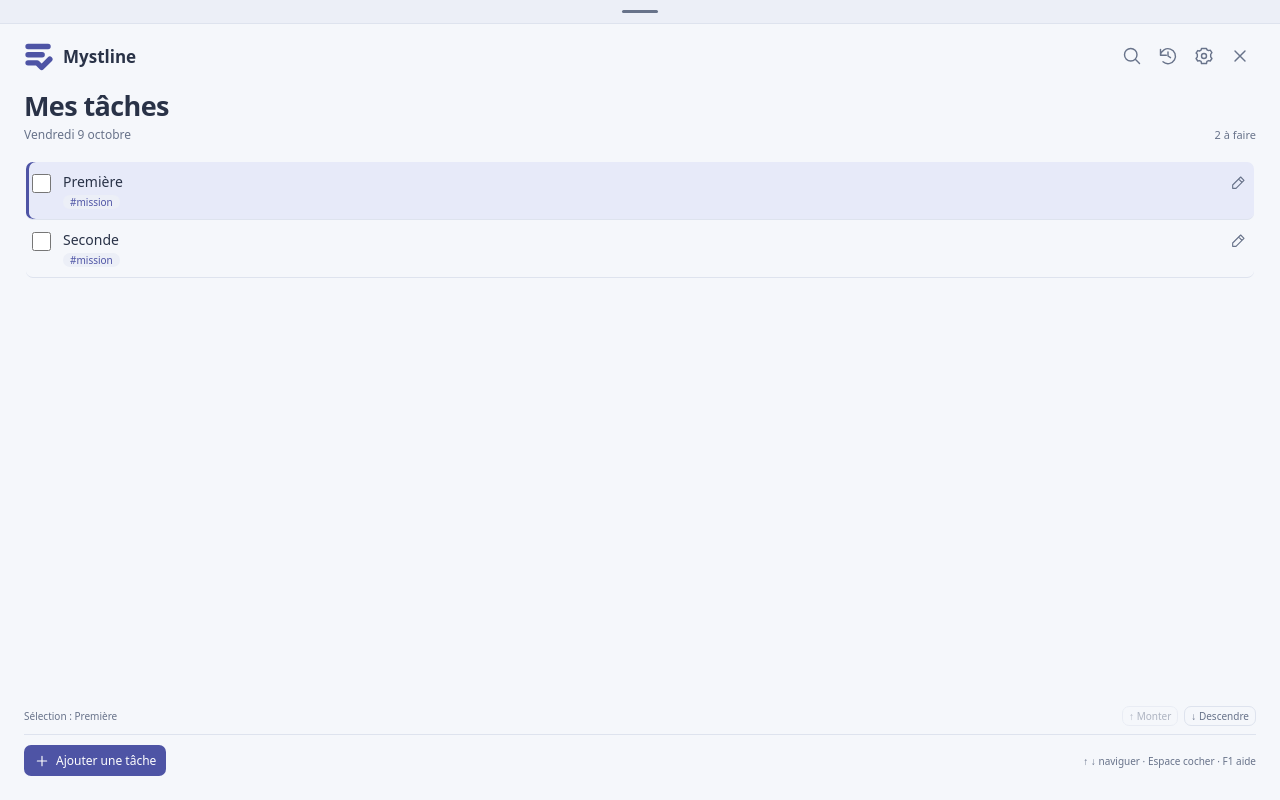
it: panneau accessible au clavier › historique conserve recherche et tag, puis Échap consomme recherche avant historique
Click the button with id "mission".
click(91, 202)  # box [63, 195, 120, 209]
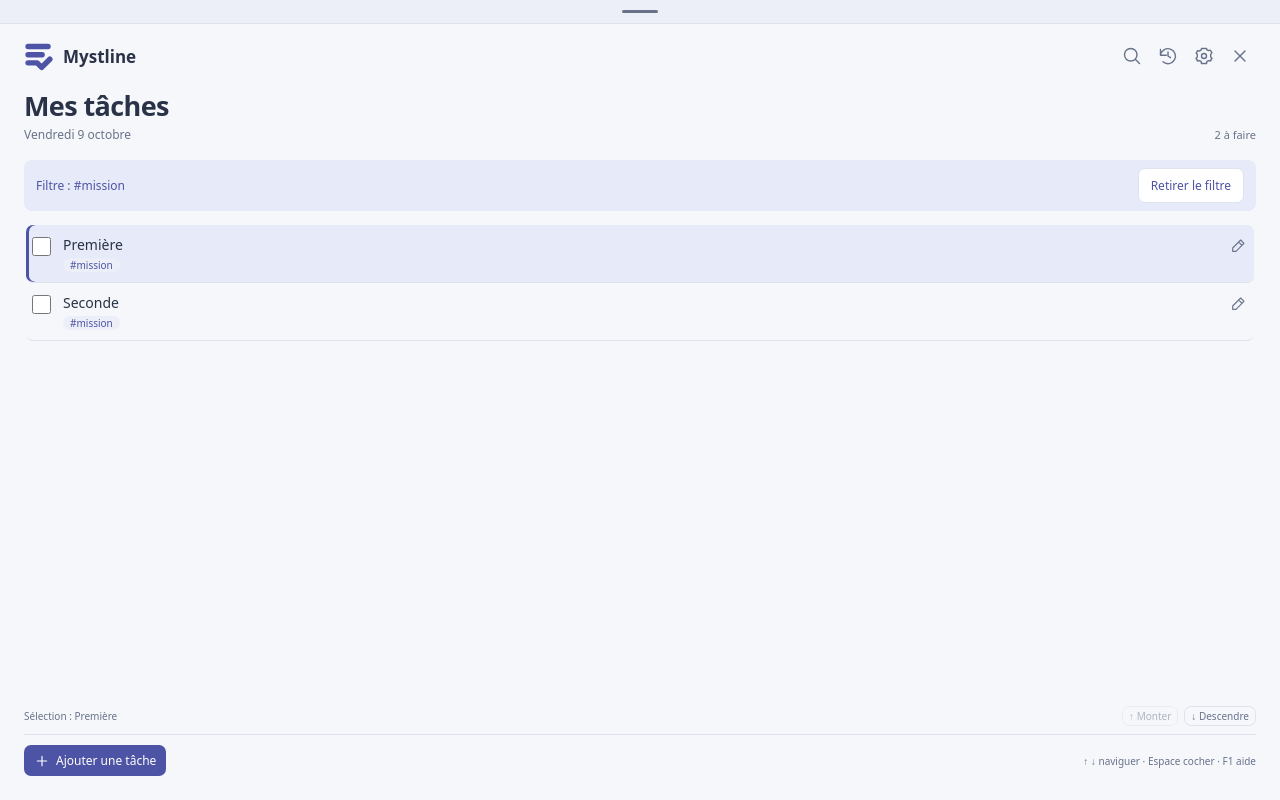
Press f in the list, box [26, 225, 1254, 341]
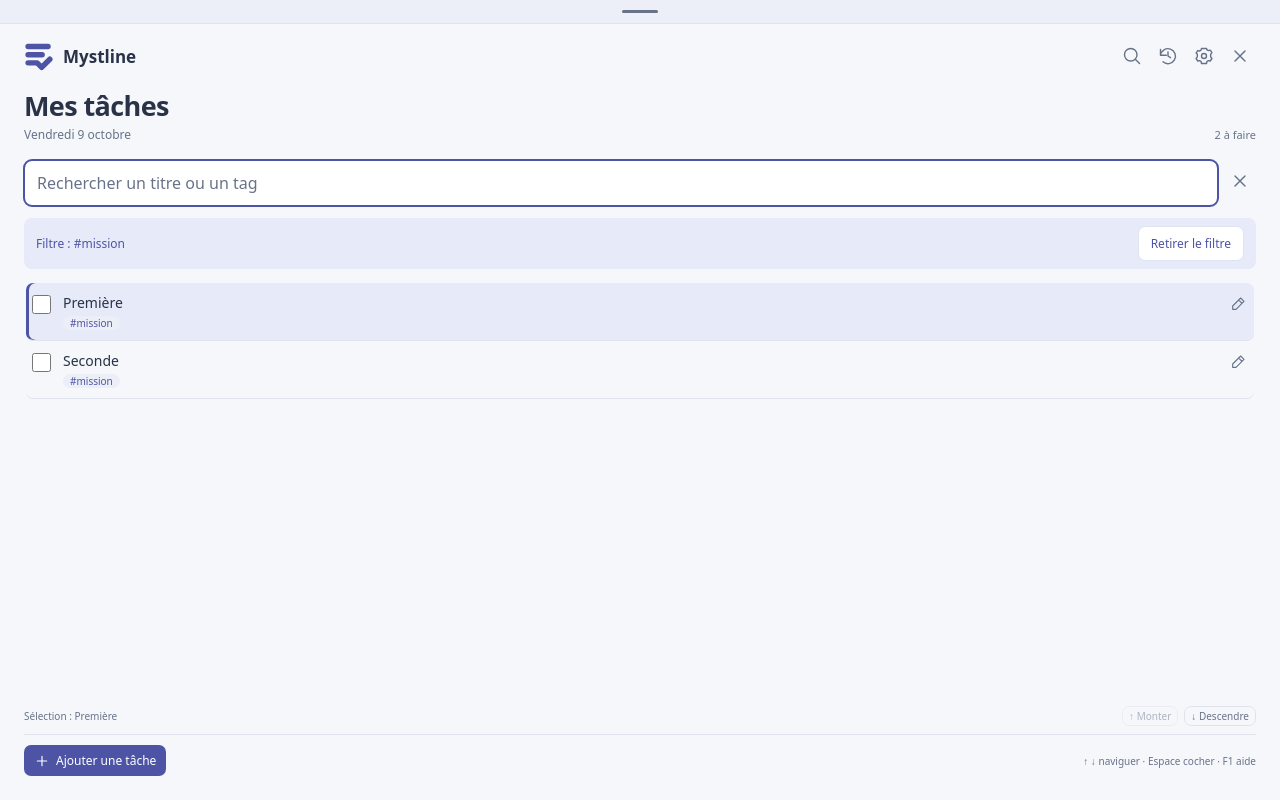
Type "support" into the field with id "search".
click(621, 183); type("support")  # box [24, 160, 1218, 206]
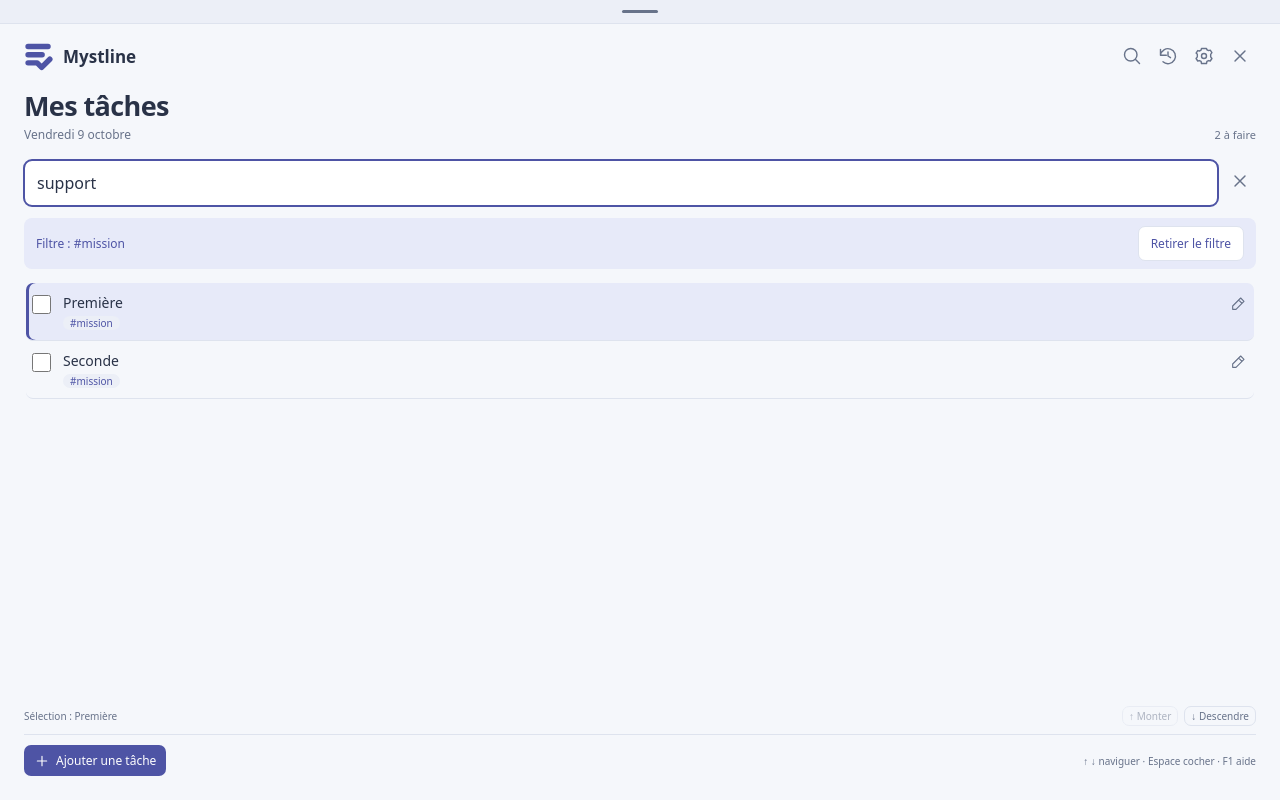
Press h in the field with id "search", box [24, 160, 1218, 206]
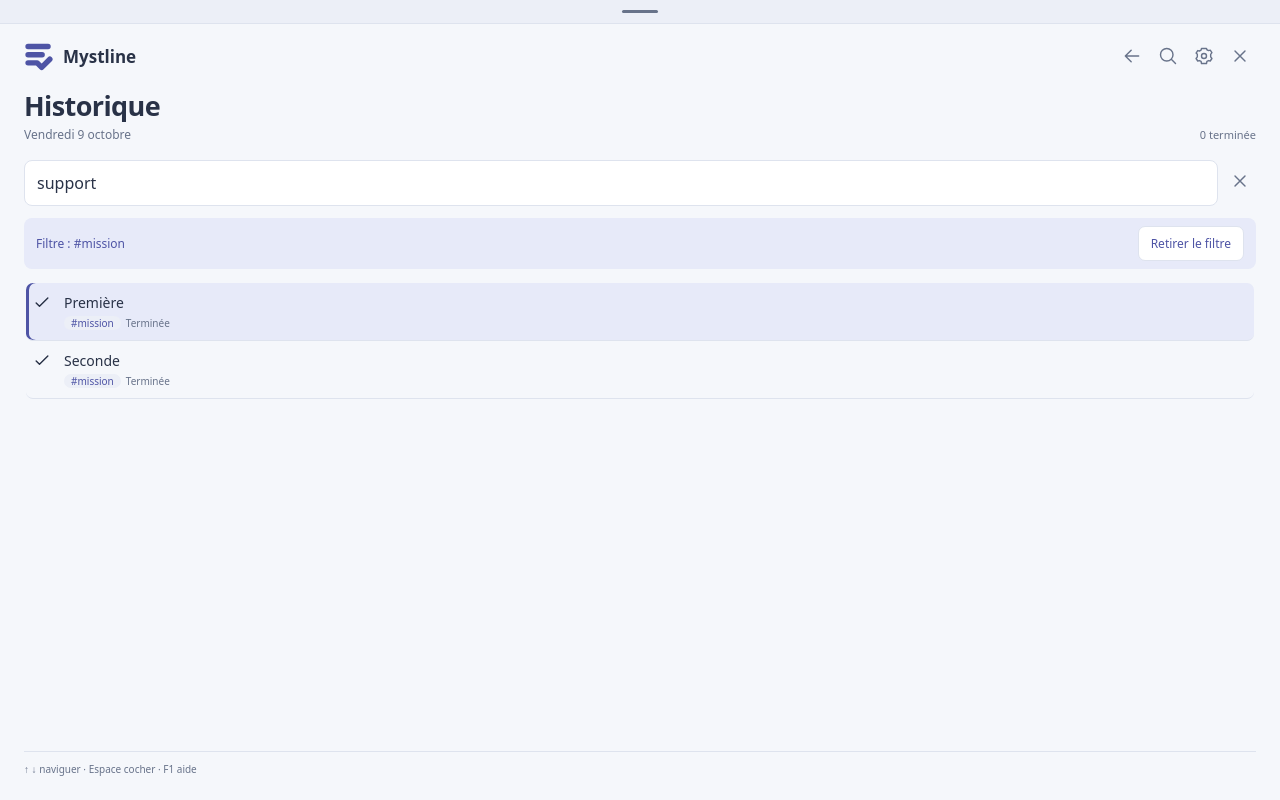
Expected: the heading "Historique" is shown, [24, 87, 160, 124]
Press Escape in the list, box [26, 283, 1254, 399]
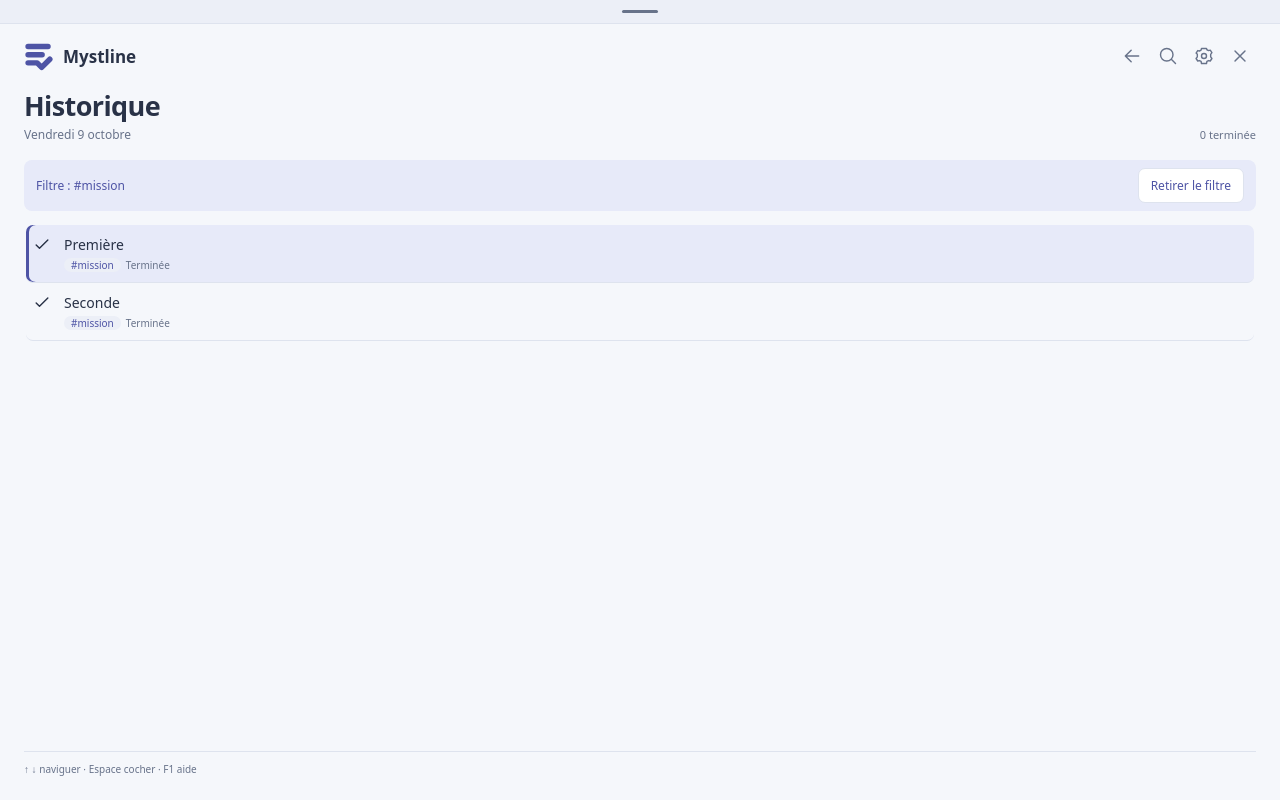
Expected: the heading "Historique" is shown, [24, 87, 160, 124]
Expected: the text "Filtre : #mission" is shown, [36, 177, 125, 194]
Press Escape in the list, box [26, 225, 1254, 341]
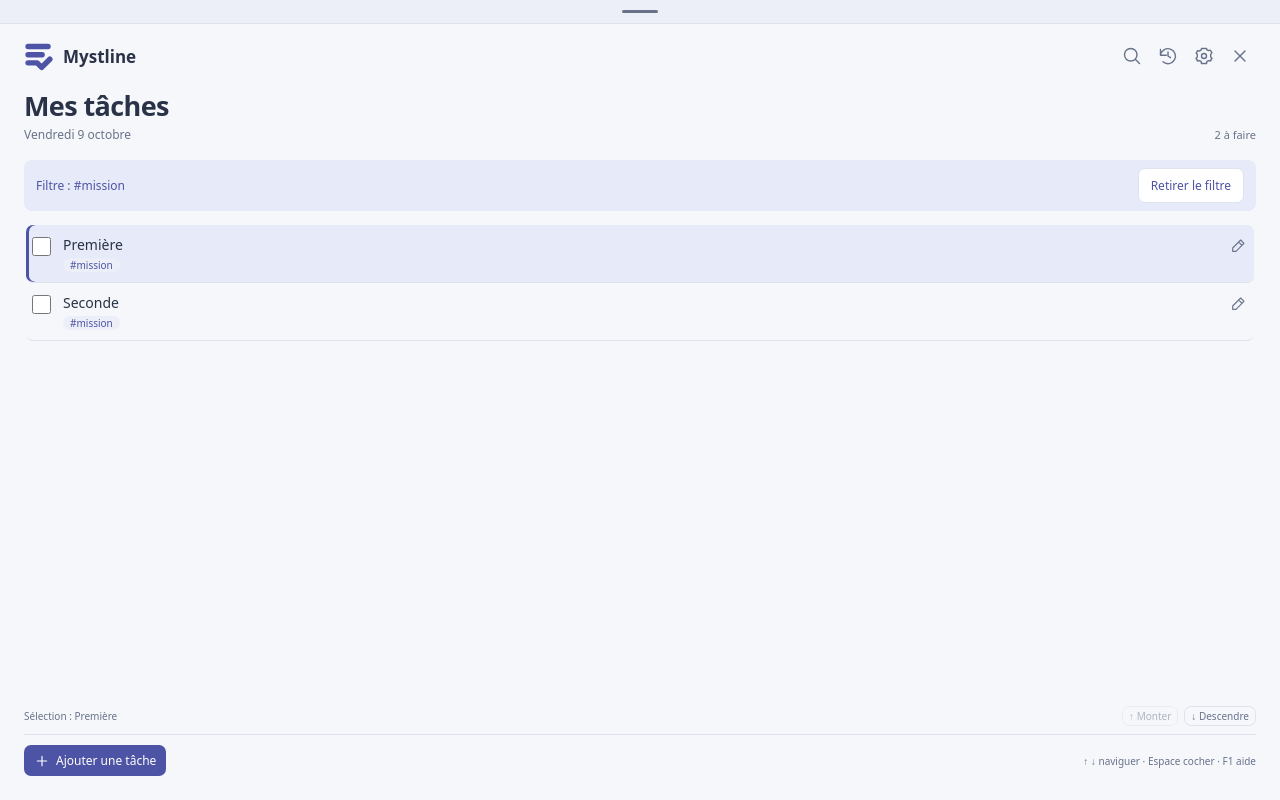
Expected: the heading "Mes tâches" is shown, [24, 87, 169, 124]
